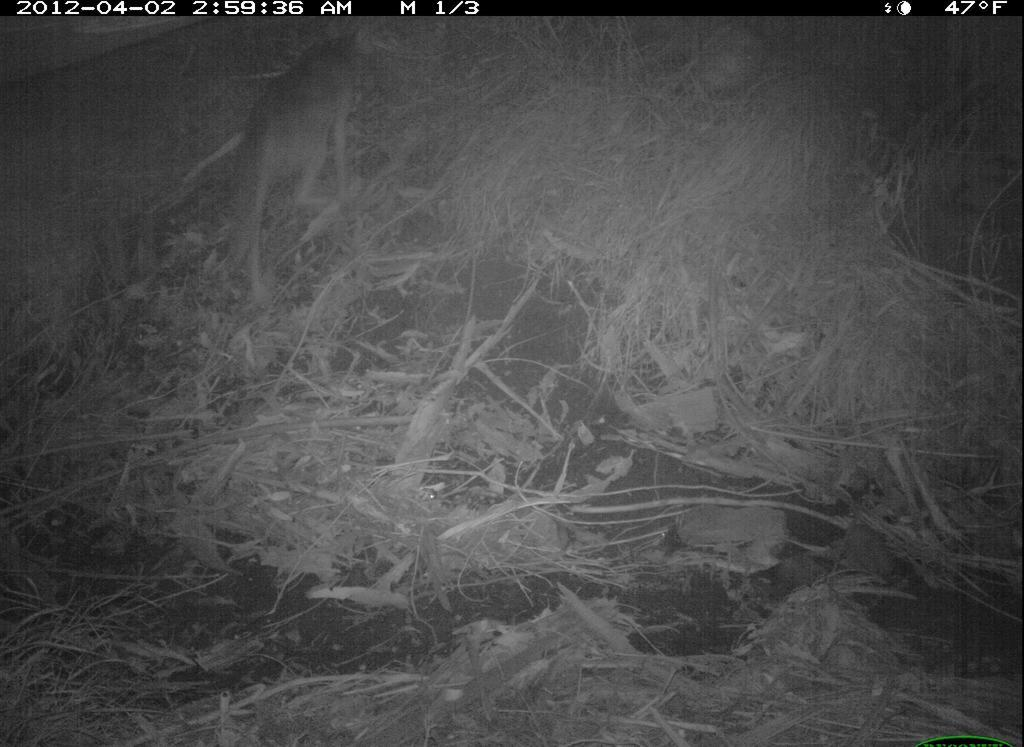coyote: (213, 21, 377, 306)
